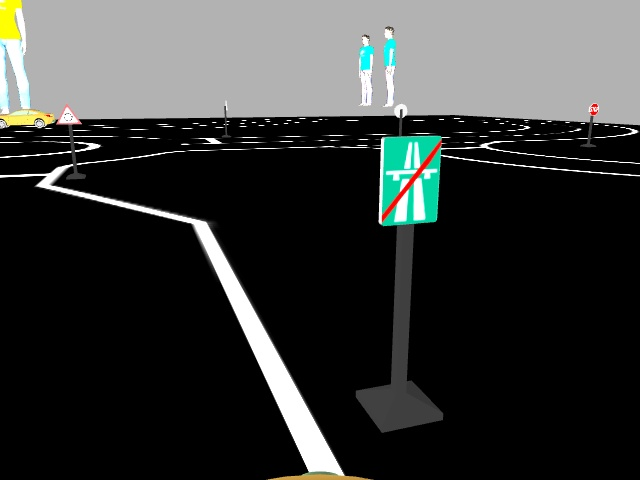HighwayExit: (377, 133, 441, 218)
